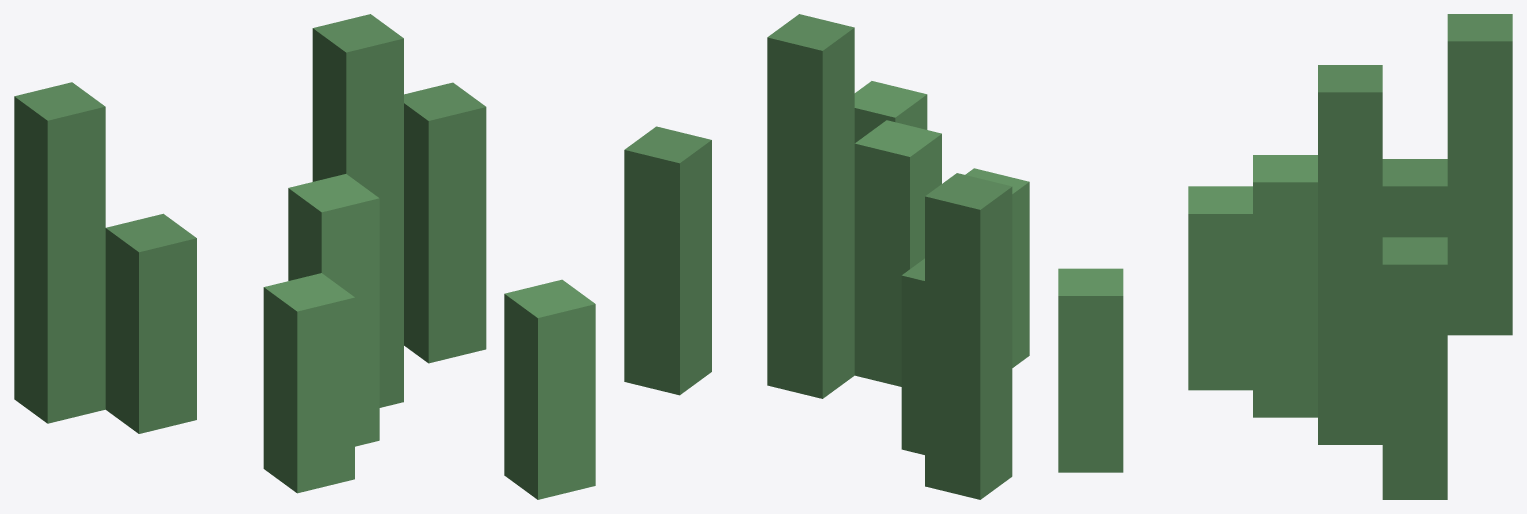
Rendered from helecho_03.glb.
The picture shows the model from 3 angles, left to right: view 1: azimuth 30°, elevation 25°; view 2: azimuth 150°, elevation 25°; view 3: azimuth 270°, elevation 25°; orthographic projection. The views are drawn at different scales.
Parts seen in each view (by area): view 1: helecho_03; view 2: helecho_03; view 3: helecho_03.
Part boxes in pixels (x1,y1,x2,y2): helecho_03: (14,14,595,499); helecho_03: (624,14,1029,499); helecho_03: (1058,14,1512,499).
Bounding box in the file's own units: 0.7 × 0.6 × 0.7.
